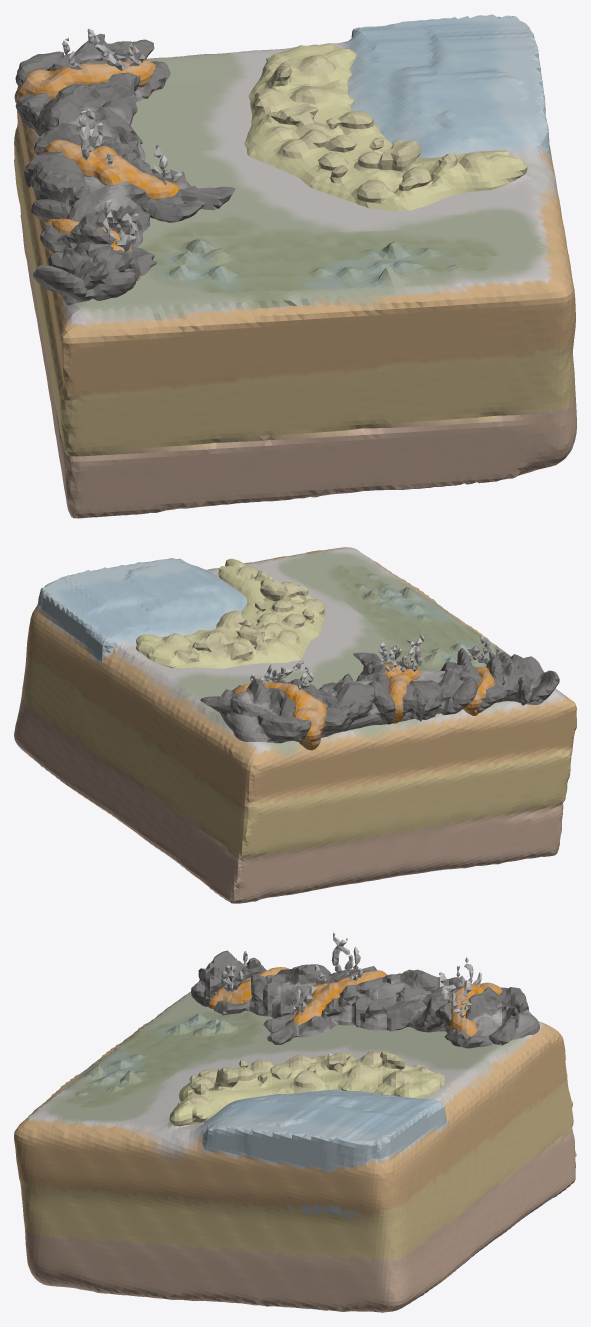
The picture shows the model from 3 angles, top to bottom: view 1: azimuth 30°, elevation 25°; view 2: azimuth 150°, elevation 25°; view 3: azimuth 270°, elevation 25°; orthographic projection. The views are drawn at different scales.
Parts seen in each view (by area): view 1: land 1.ply; view 2: land 1.ply; view 3: land 1.ply.
Part boxes in pixels (x1,y1,x2,y2): land 1.ply: (14, 14, 576, 518); land 1.ply: (14, 547, 576, 903); land 1.ply: (14, 932, 576, 1312).
Size of the model in its own units: 77.43 by 40.1 by 77.65.
